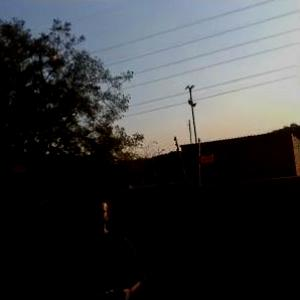follow: (59, 186, 151, 299)
